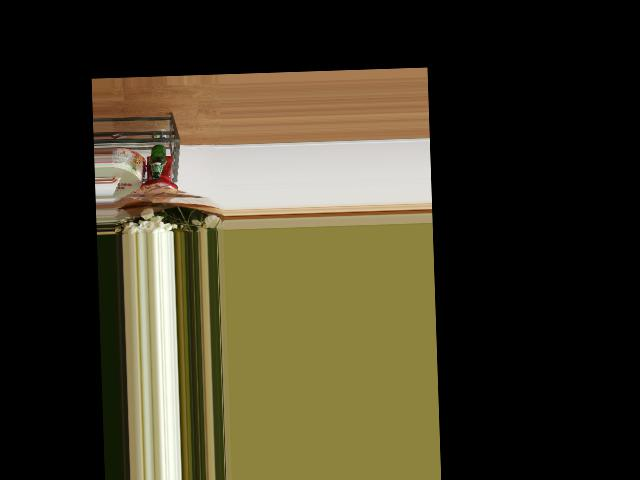beer: (148, 143, 166, 179)
